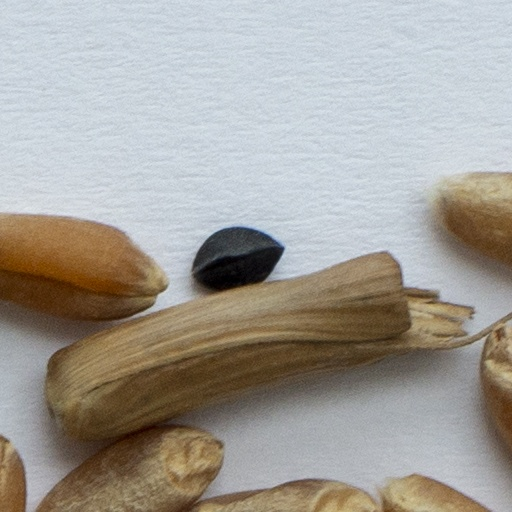Fallopia-Convolvulus-poly: (194, 227, 283, 290)
